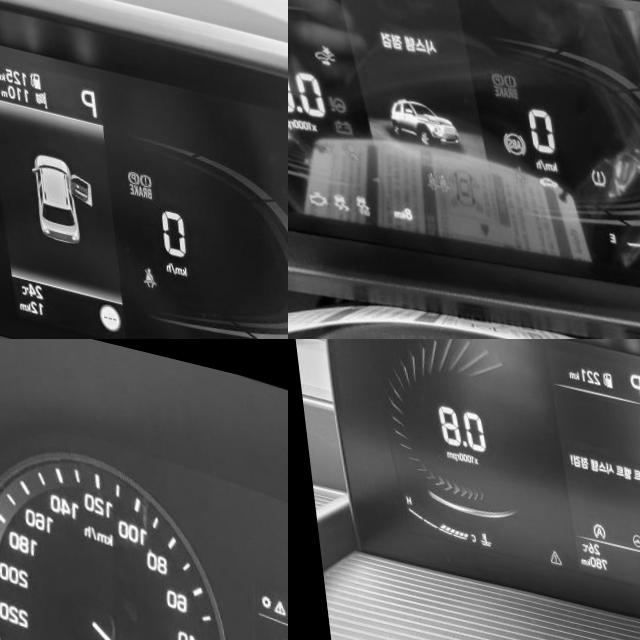Central Warning lamp: (540, 536, 554, 553)
LaneCenteringOff: (636, 518, 640, 535)
